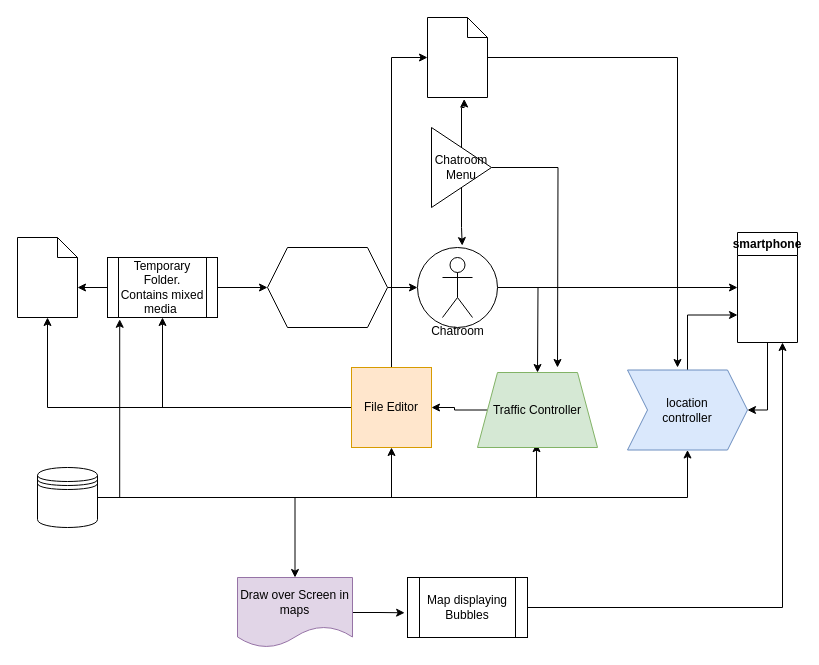
Image size: 819x665. Some labels were removed from this diagram. Each missing label, with the centre of its shape:
Config File: point 457,57
Render Data: point 327,287
SQL Database: point 67,497
Temporary Text Storage: point 47,277
